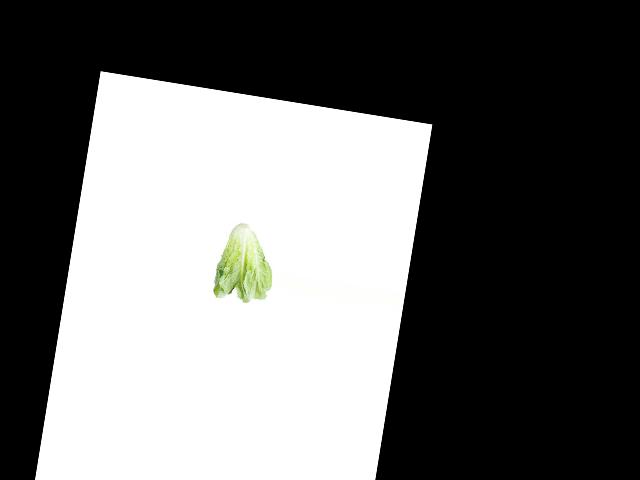lettuce: (210, 218, 280, 306)
